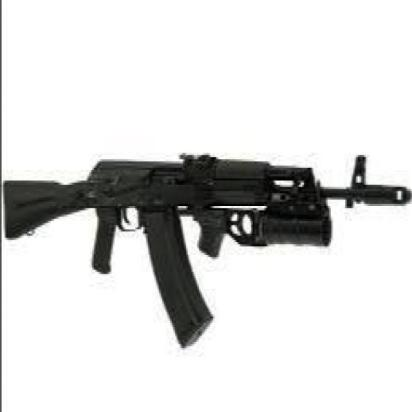Gun: (1, 146, 412, 346)
